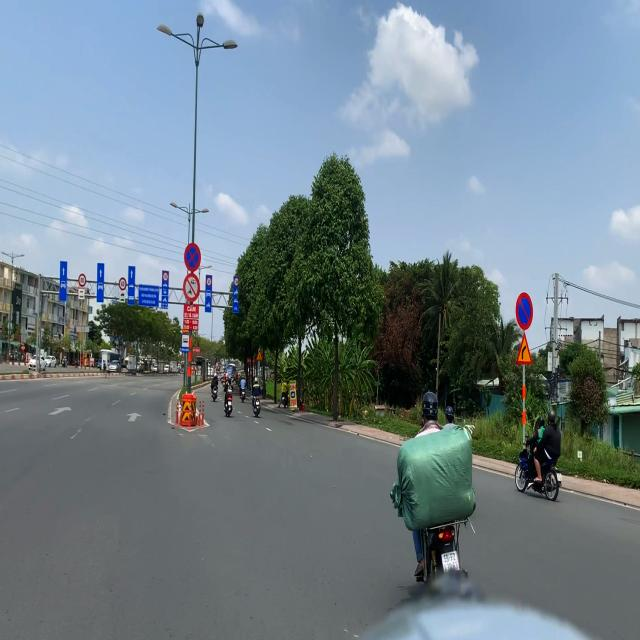Cam do: (516, 292, 533, 331)
Cam dung va do: (184, 243, 201, 272)
Hieu lenh: (181, 334, 190, 352)
Nguoi di bo cat ngang: (256, 350, 263, 360)
Nguy hiem: (516, 332, 533, 365)
Toc do toi da: (78, 273, 86, 287), (118, 277, 126, 290), (206, 277, 212, 286), (163, 272, 168, 281), (234, 277, 239, 286)
